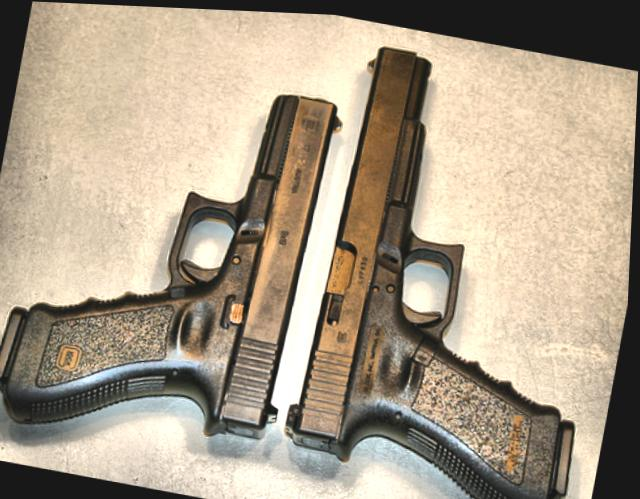pistol: (275, 32, 639, 499), (0, 43, 346, 471)
